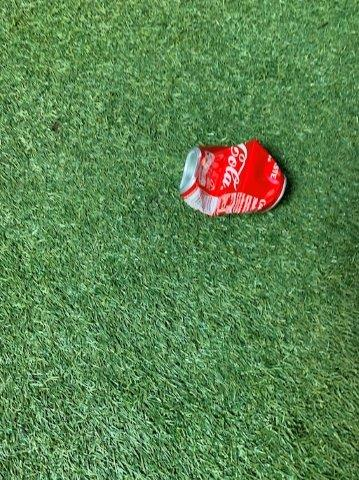kaleng: (181, 140, 286, 215)
